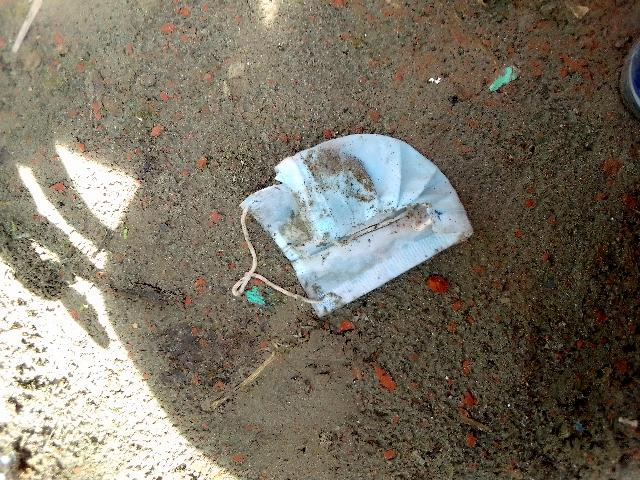mask: (252, 136, 476, 290)
